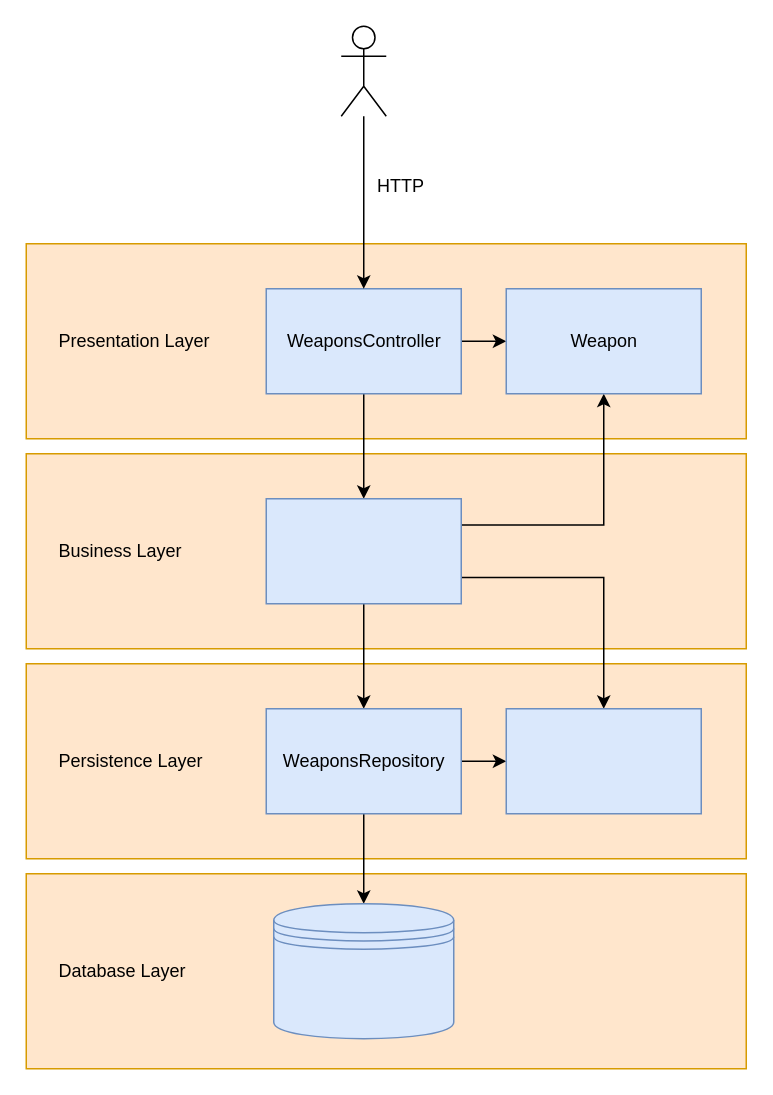
This 773x1095 diagram has some shape labels left out. Here are the shapes that lost their labels. From the top down, the centre of each, then its label:
At point (363, 70): "Customer".
At point (363, 550): "WeaponsServiceImpl".
At point (603, 760): "WeaponEntity".
At point (363, 970): "PostgreSQL".
